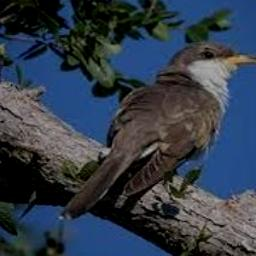Cuckoo: (57, 42, 256, 219)
